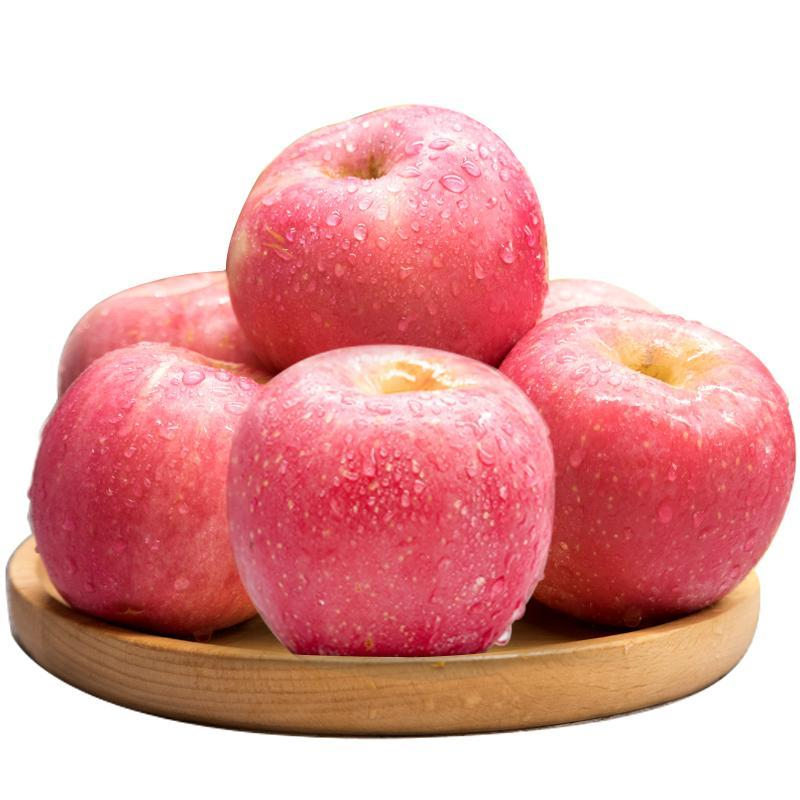apple: (228, 349, 559, 662), (491, 310, 794, 636), (222, 106, 545, 374), (32, 364, 263, 643), (50, 270, 267, 397)
